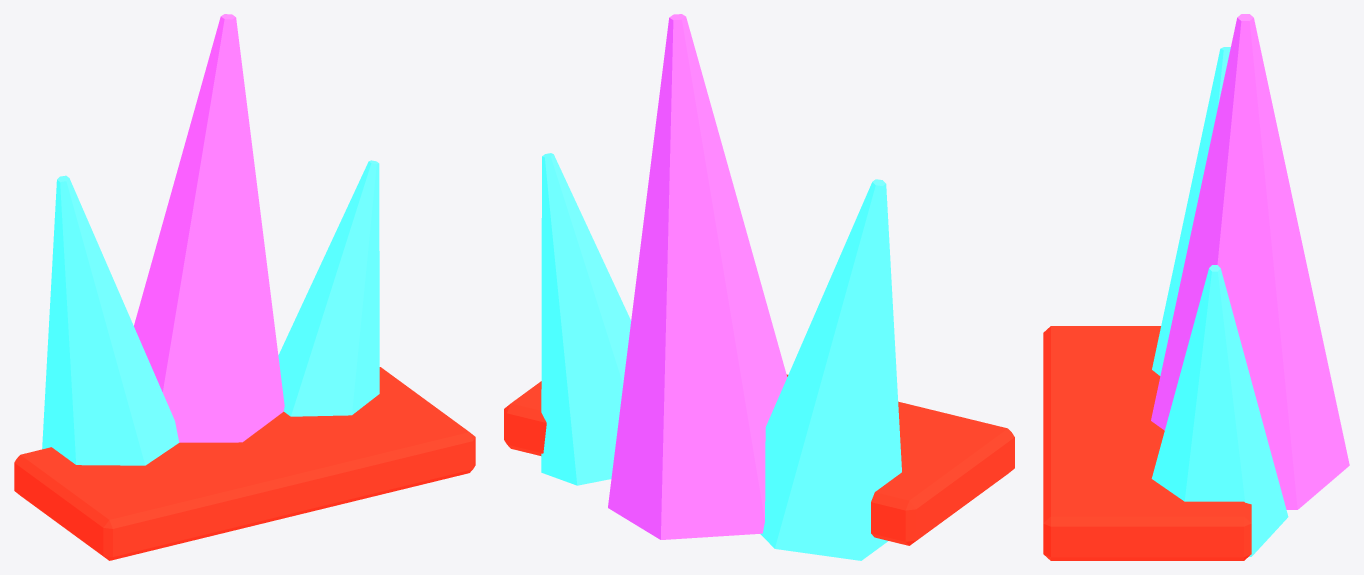
Rendered from crystal_spikes.glb.
3 renders of one model, left to right at view 1: azimuth 30°, elevation 25°; view 2: azimuth 150°, elevation 25°; view 3: azimuth 270°, elevation 25°, orthographic. The views are drawn at different scales.
Parts seen in each view (by area): view 1: GEO_hazard, GEO_cyan, GEO_violet; view 2: GEO_violet, GEO_cyan, GEO_hazard; view 3: GEO_violet, GEO_hazard, GEO_cyan.
Part boxes in pixels (x1,y1,x2,y2): GEO_hazard: (14,367,475,560); GEO_cyan: (42,160,379,465); GEO_violet: (134,14,284,442); GEO_violet: (608,14,787,539); GEO_cyan: (541,153,901,560); GEO_hazard: (504,374,1014,545); GEO_violet: (1151,14,1349,509); GEO_hazard: (1043,326,1251,560); GEO_cyan: (1151,47,1288,556).
Bounding box in the file's own units: 1.52 × 1.72 × 1.
